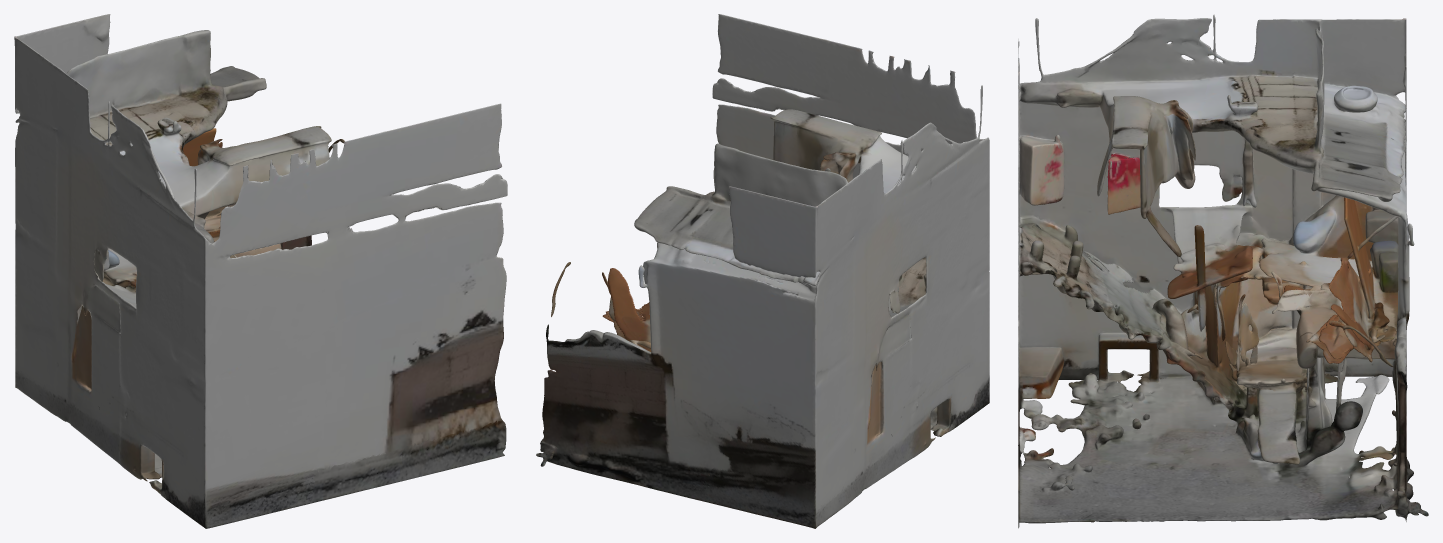
The model's file is sample-PC.glb.
3 renders of one model, left to right at view 1: azimuth 30°, elevation 25°; view 2: azimuth 150°, elevation 25°; view 3: azimuth 270°, elevation 25°, orthographic. The views are drawn at different scales.
Visible parts, largest first — view 1: tripo_node_2291e81f-aa2c-4117-99bc-f6977396854b; view 2: tripo_node_2291e81f-aa2c-4117-99bc-f6977396854b; view 3: tripo_node_2291e81f-aa2c-4117-99bc-f6977396854b.
Boxes of the visible parts, left/top/right/bottom form: tripo_node_2291e81f-aa2c-4117-99bc-f6977396854b: left=14, top=14, right=507, bottom=528; tripo_node_2291e81f-aa2c-4117-99bc-f6977396854b: left=536, top=14, right=989, bottom=528; tripo_node_2291e81f-aa2c-4117-99bc-f6977396854b: left=1018, top=14, right=1428, bottom=528.
Bounding box in the file's own units: 0.8761 × 0.9839 × 0.9998.
1 material, 1 textured.
